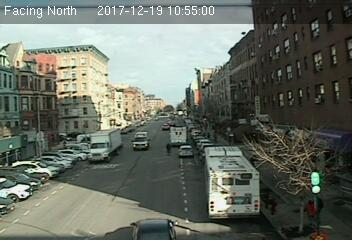bus: (202, 147, 262, 218)
car: (131, 137, 150, 152), (177, 146, 195, 158)
truck: (88, 129, 122, 164), (169, 126, 187, 147)
